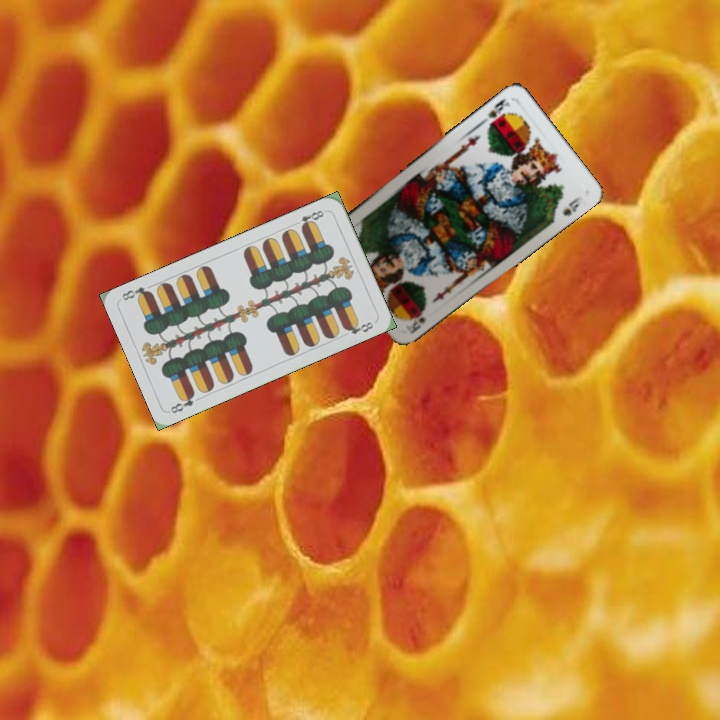E8: (290, 206, 329, 231), (166, 389, 197, 416)
SK: (480, 94, 513, 128), (402, 305, 429, 336)
